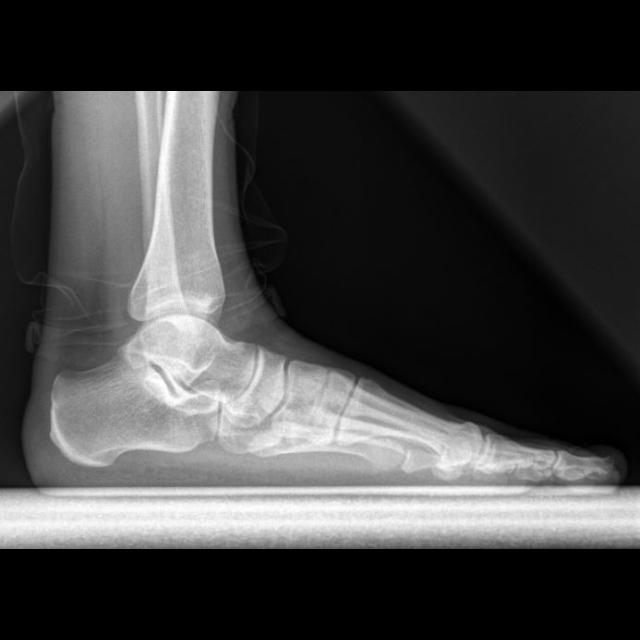a: (50, 357, 219, 470)
b: (230, 347, 287, 428)
c: (338, 381, 484, 466)
